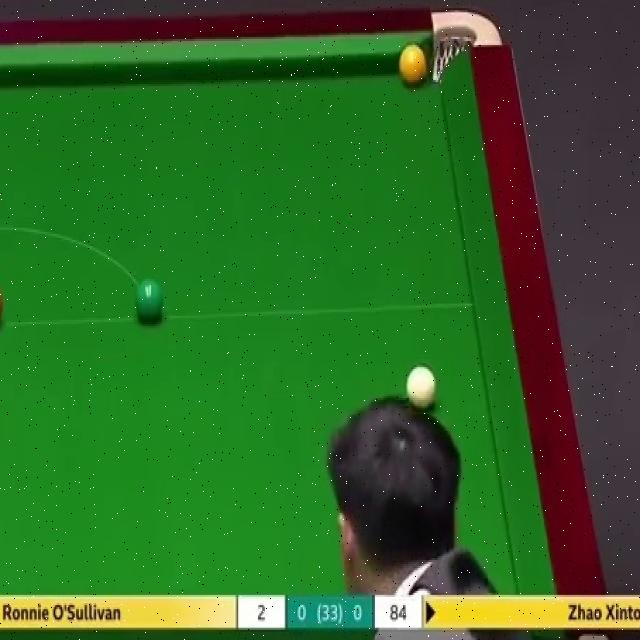green-ball: (134, 277, 165, 324)
white-ball: (406, 363, 440, 411)
yellow-ball: (399, 45, 429, 87)
